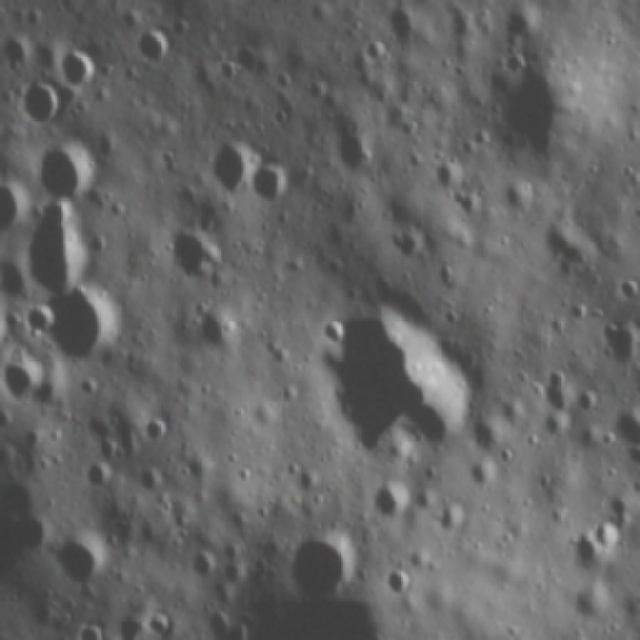crater: (302, 306, 480, 468), (463, 24, 582, 162), (33, 283, 127, 386), (24, 208, 96, 295), (24, 134, 99, 206), (282, 535, 358, 600), (162, 230, 225, 292), (202, 133, 250, 202), (49, 40, 111, 92), (50, 535, 107, 591), (188, 308, 243, 366), (14, 78, 69, 133), (592, 315, 640, 374), (560, 528, 614, 580), (250, 158, 298, 216), (604, 397, 640, 451), (137, 28, 177, 75), (385, 563, 423, 606)
